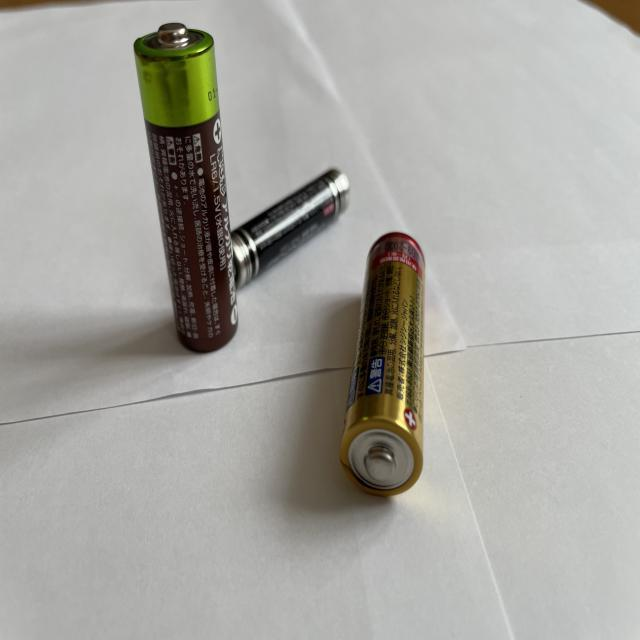hazardous waste: (133, 22, 240, 354), (338, 232, 428, 502), (222, 166, 351, 284)
